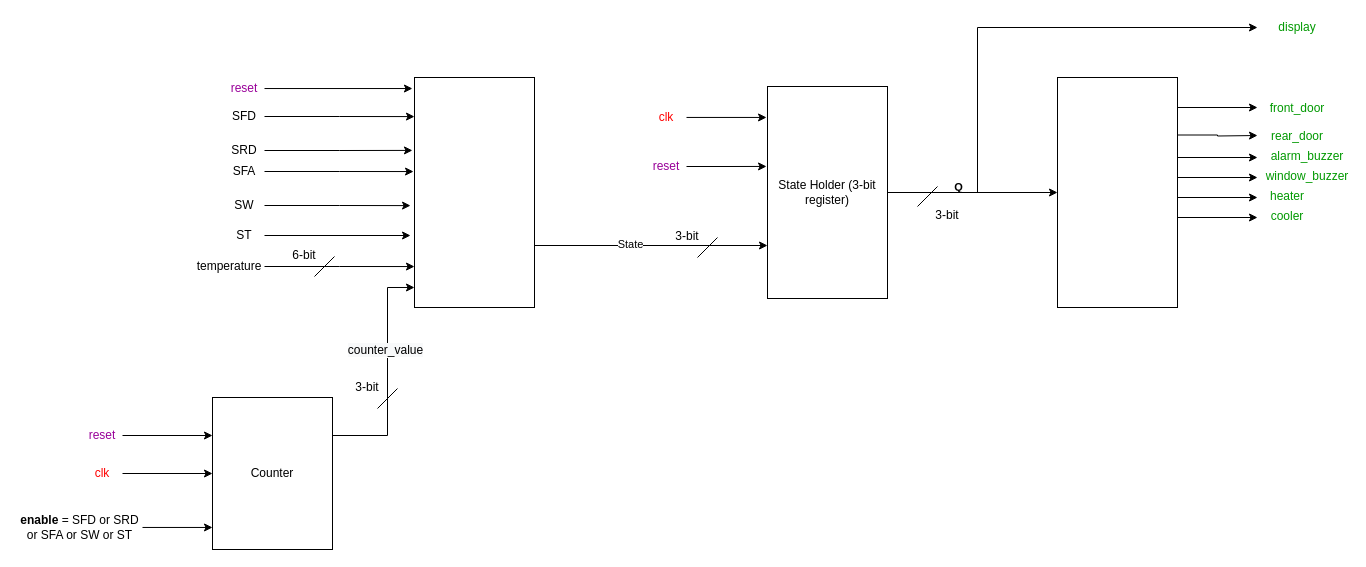
This 1366x567 diagram has some shape labels left out. The shapes that lost their labels are listed below. From the top down, each one's box as (x1, y1, x2, y2) in pixels, then its label:
(414, 76, 534, 308): Priority Encoder
(1056, 76, 1178, 308): Output Decoder
